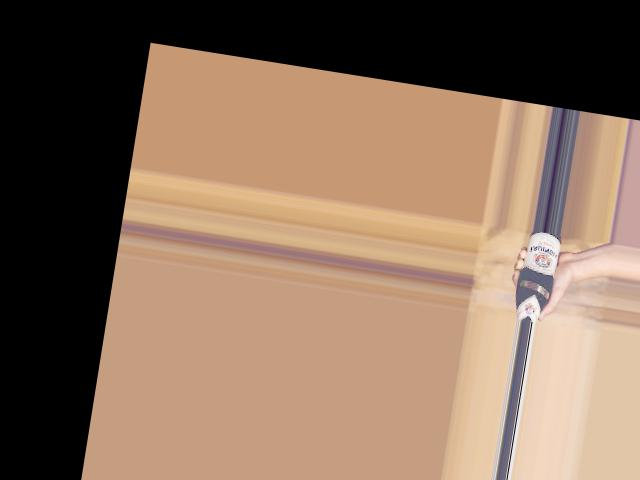beer: (512, 228, 563, 323)
